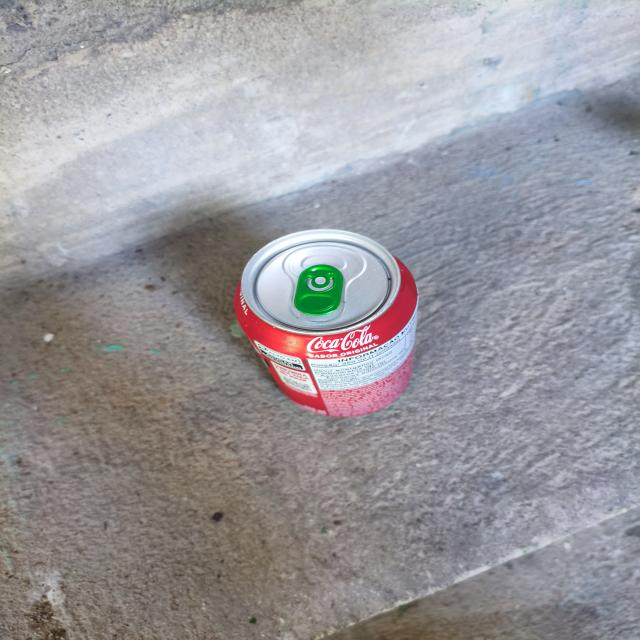Coca Cola: (230, 227, 418, 415)
